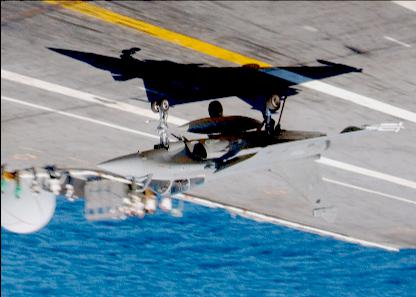RQ4: (95, 91, 404, 222)
